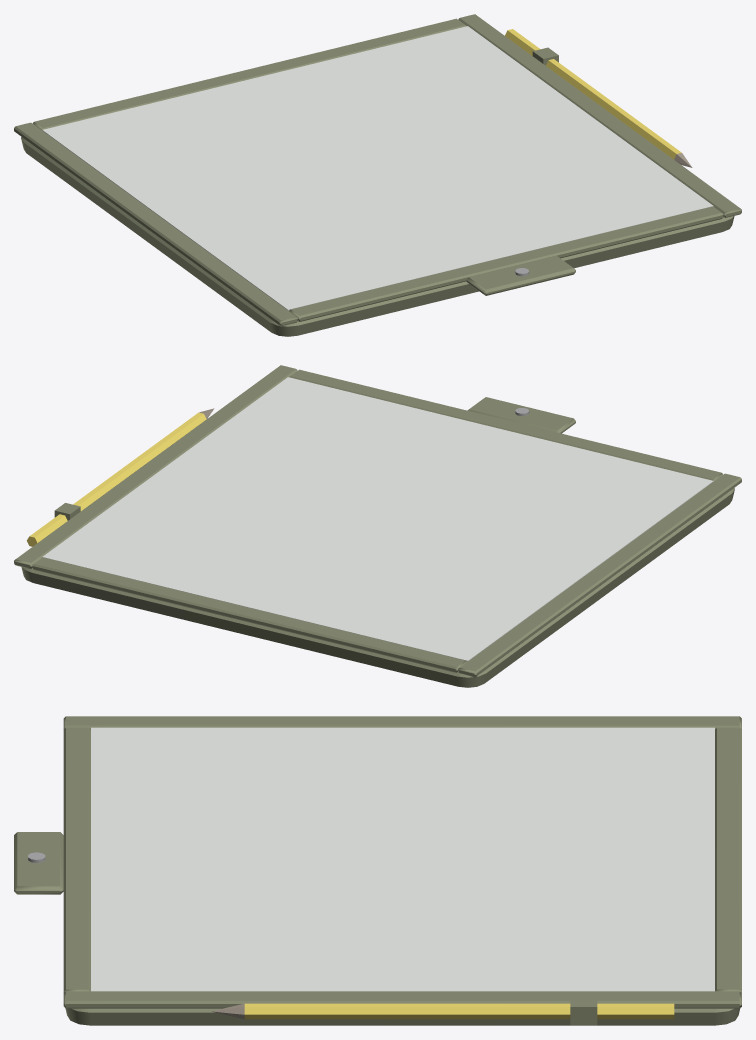
Rendered from map_case.glb.
3 renders of one model, top to bottom at view 1: azimuth 30°, elevation 25°; view 2: azimuth 150°, elevation 25°; view 3: azimuth 270°, elevation 25°, orthographic. The views are drawn at different scales.
Parts seen in each view (by area): view 1: body; view 2: body; view 3: body.
Part boxes in pixels (bbox=[...]): body: bbox=[14, 14, 741, 336]; body: bbox=[14, 365, 741, 687]; body: bbox=[14, 716, 741, 1025].
Bounding box in the file's own units: 0.31 × 0.0145 × 0.322.
